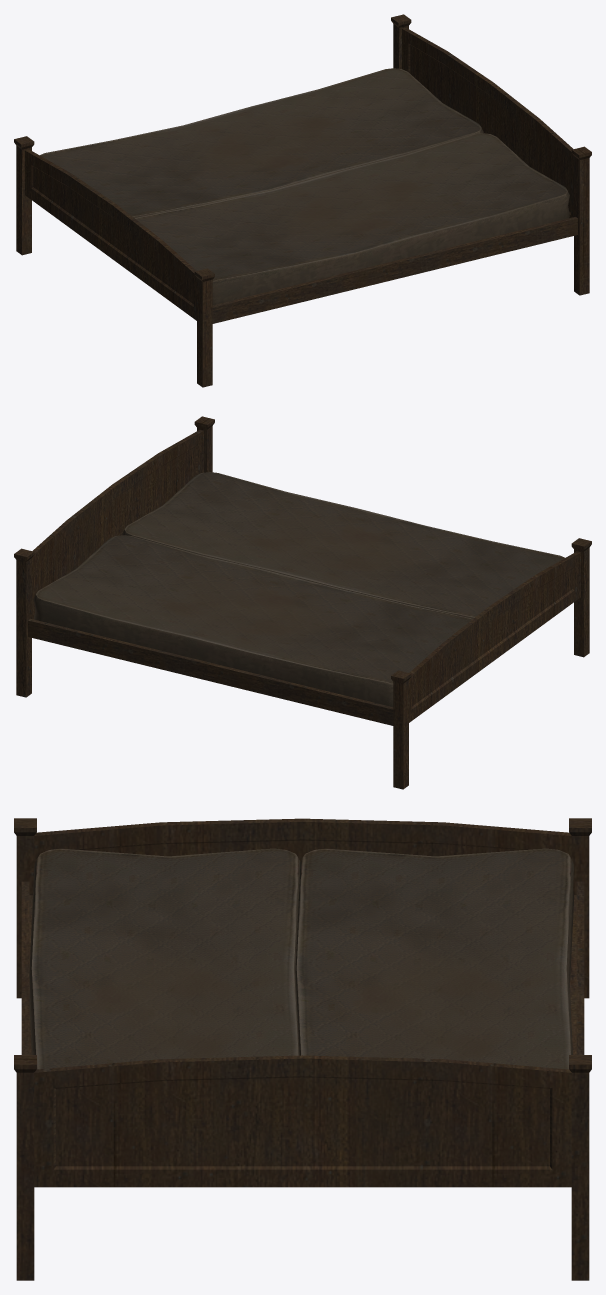
File: bed_4_1.obj
3 renders of one model, top to bottom at view 1: azimuth 30°, elevation 25°; view 2: azimuth 150°, elevation 25°; view 3: azimuth 270°, elevation 25°, orthographic. The views are drawn at different scales.
Parts seen in each view (by area): view 1: bed_4_1; view 2: bed_4_1; view 3: bed_4_1.
Boxes of the visible parts, x1,y1,x2,y2 form: bed_4_1: (14,14,591,387); bed_4_1: (14,416,591,789); bed_4_1: (14,818,591,1280).
Bounding box in the file's own units: 2.74 × 0.9621 × 2.29.
